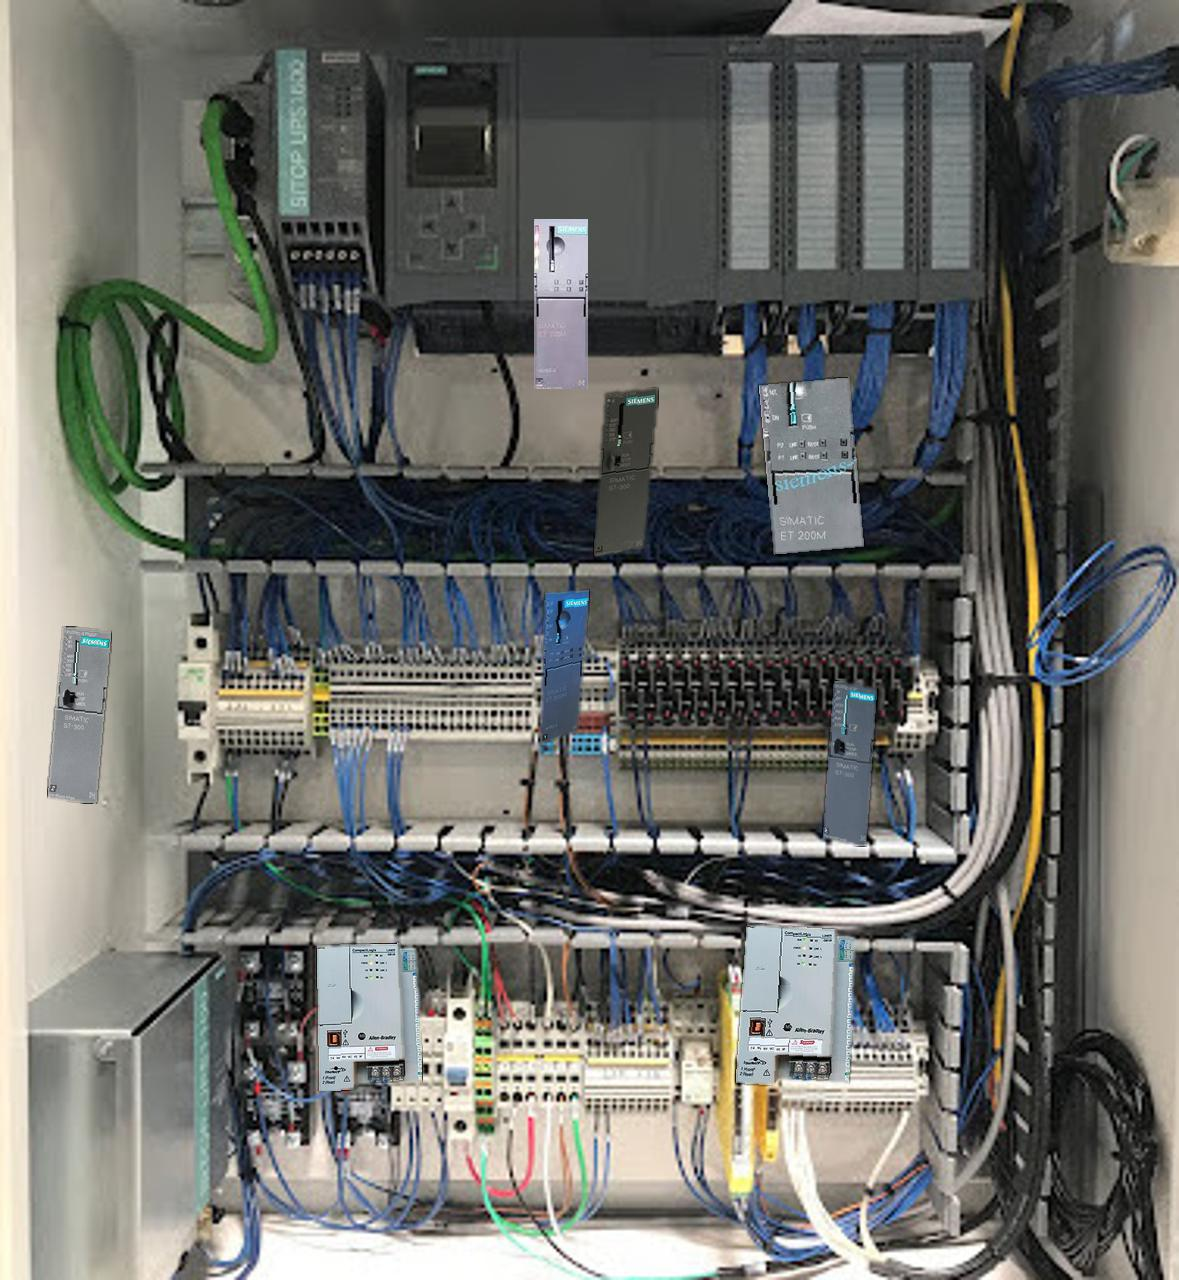AllenBradley: (736, 925, 854, 1084), (317, 943, 421, 1090)
Siemens: (48, 626, 110, 803), (595, 388, 657, 556), (823, 681, 876, 845)
